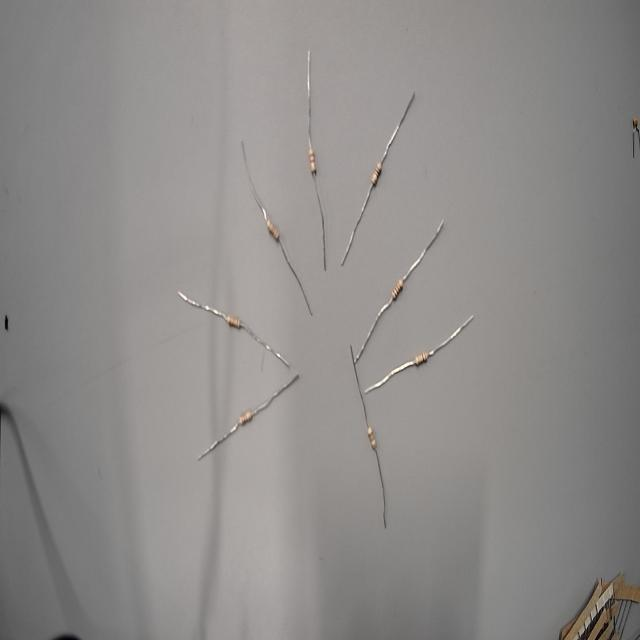resistor: (217, 295, 255, 345), (256, 201, 290, 255), (361, 146, 393, 202), (357, 410, 388, 466), (298, 134, 328, 191), (407, 336, 438, 384), (385, 265, 413, 316), (228, 399, 260, 438)
